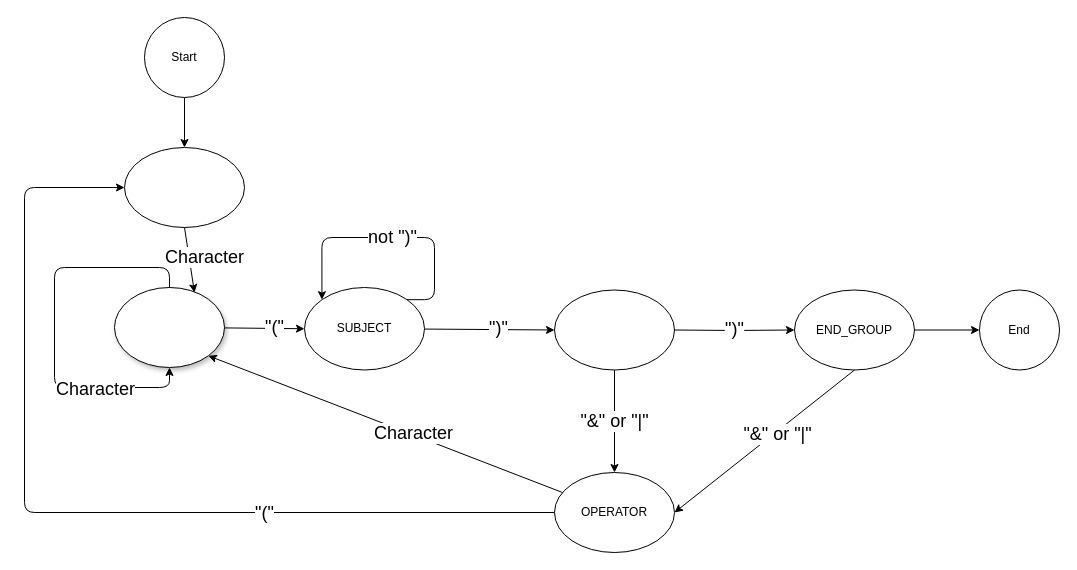
Some shapes in this 1077 by 570 pixel diagram are drawn without their labels. The centre of each missing label's shape, as x and y in pixels:
"END_RULE" belongs at point (614, 329).
"NEW_GROUP" belongs at point (184, 187).
"PREFIX" belongs at point (170, 328).
